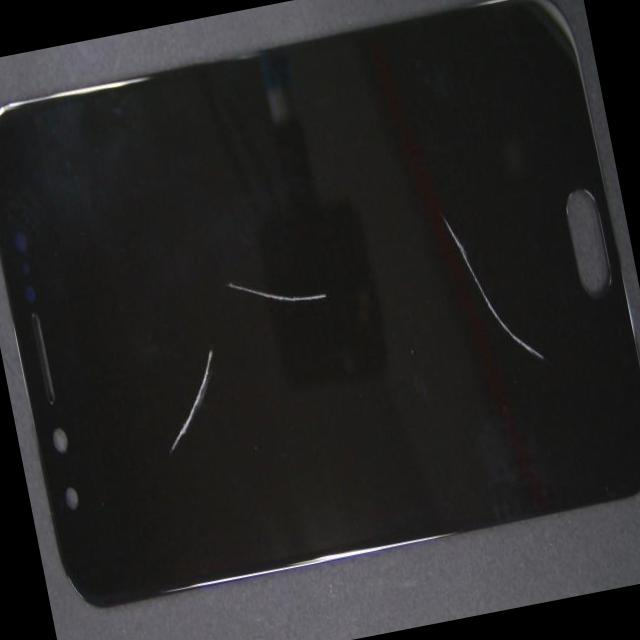scratch: (424, 194, 556, 390), (148, 332, 232, 460), (214, 242, 335, 329)
